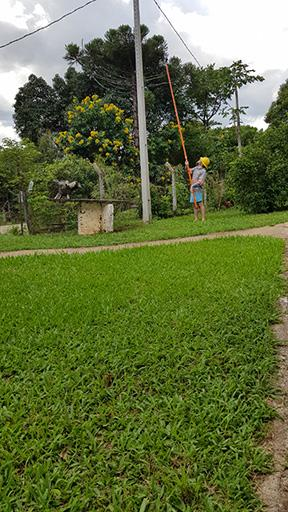Vara_Manobra: (165, 63, 197, 209)
